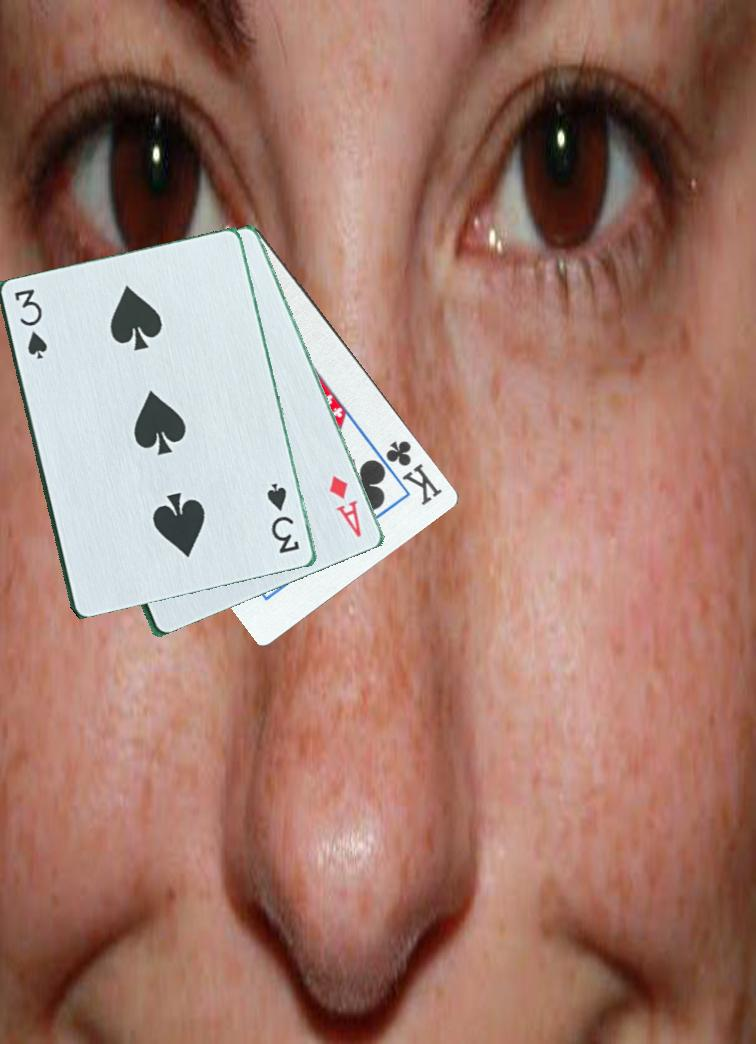3s: (11, 286, 50, 367), (263, 479, 303, 557)
ad: (326, 472, 366, 541)
kc: (382, 436, 451, 509)
